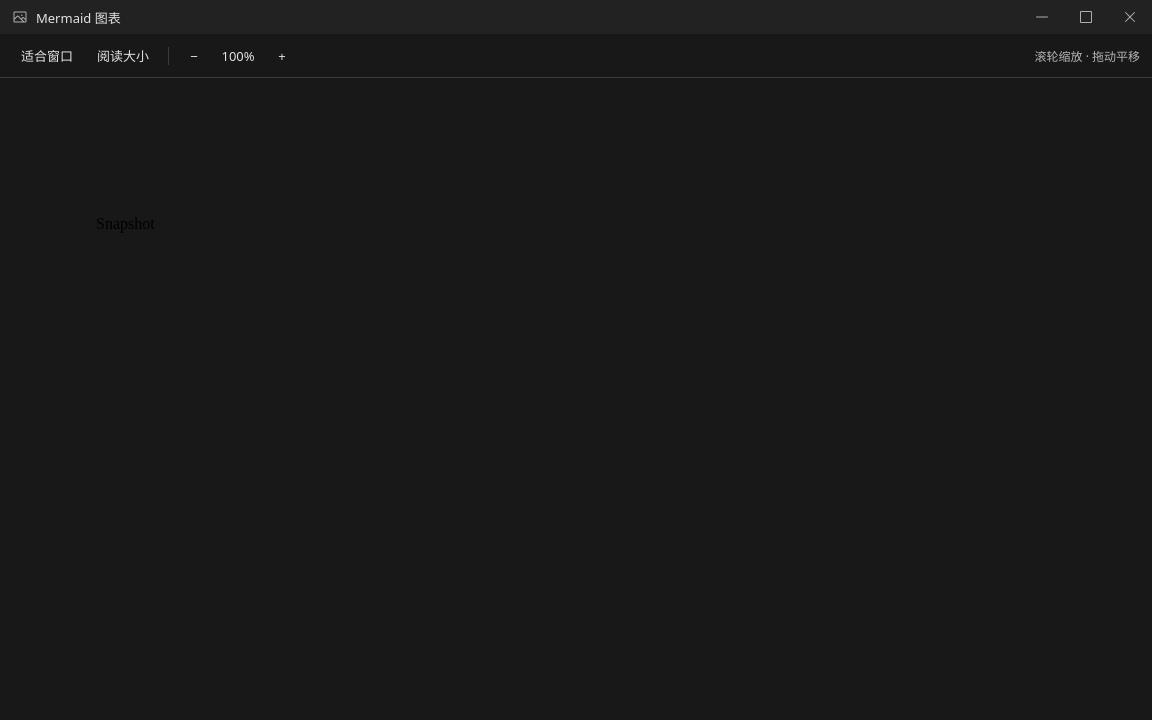
it: Mermaid readonly viewer › reports a failed save and allows a later successful or cancelled save without leaving an error
Expected: the button named "放大" is enabled, [267,40,297,70]
Right-click the element named "图表画布": x=576, y=399 [0,78,1151,719]
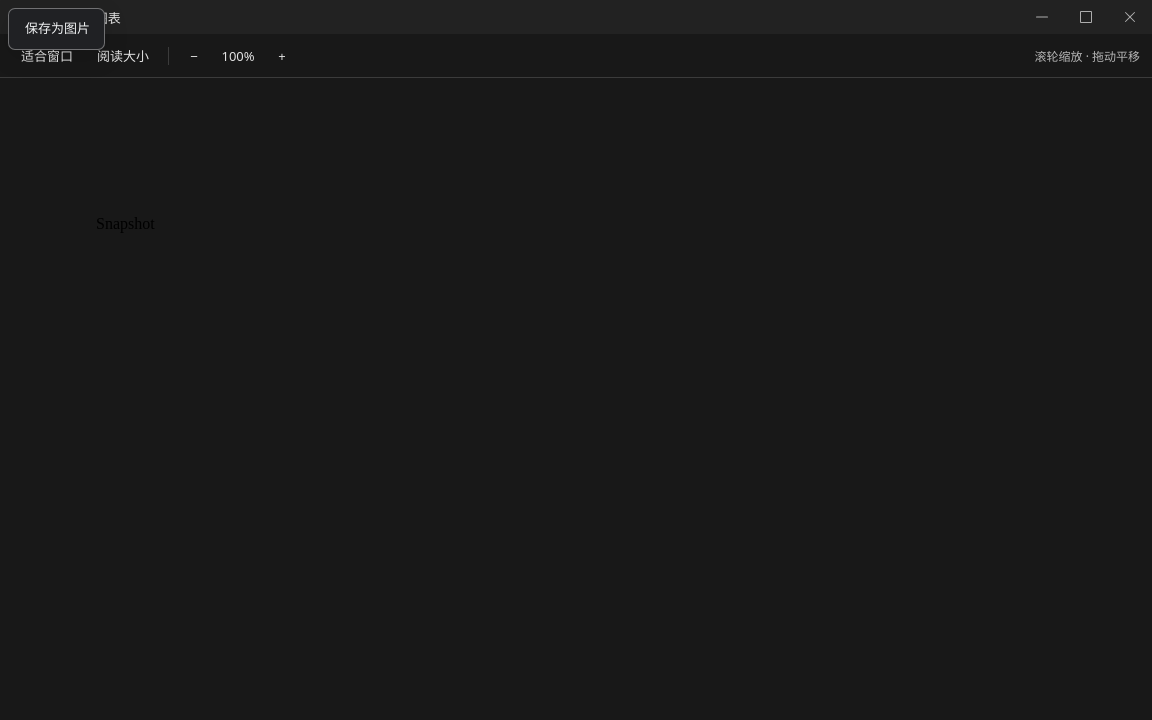
Click the menu item "保存为图片": x=56, y=29 [9,14,104,44]
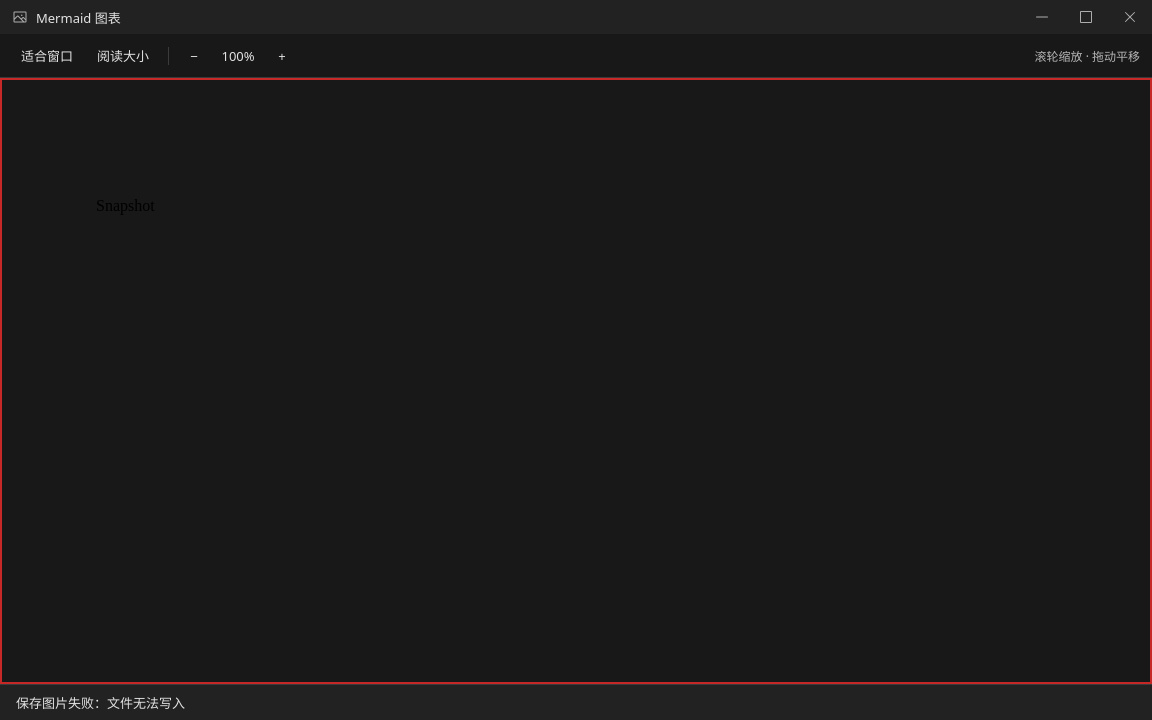
Now the message shows "文件无法写入", box [16,694,185,712]
Right-click the element named "图表画布": x=576, y=381 [0,78,1151,684]
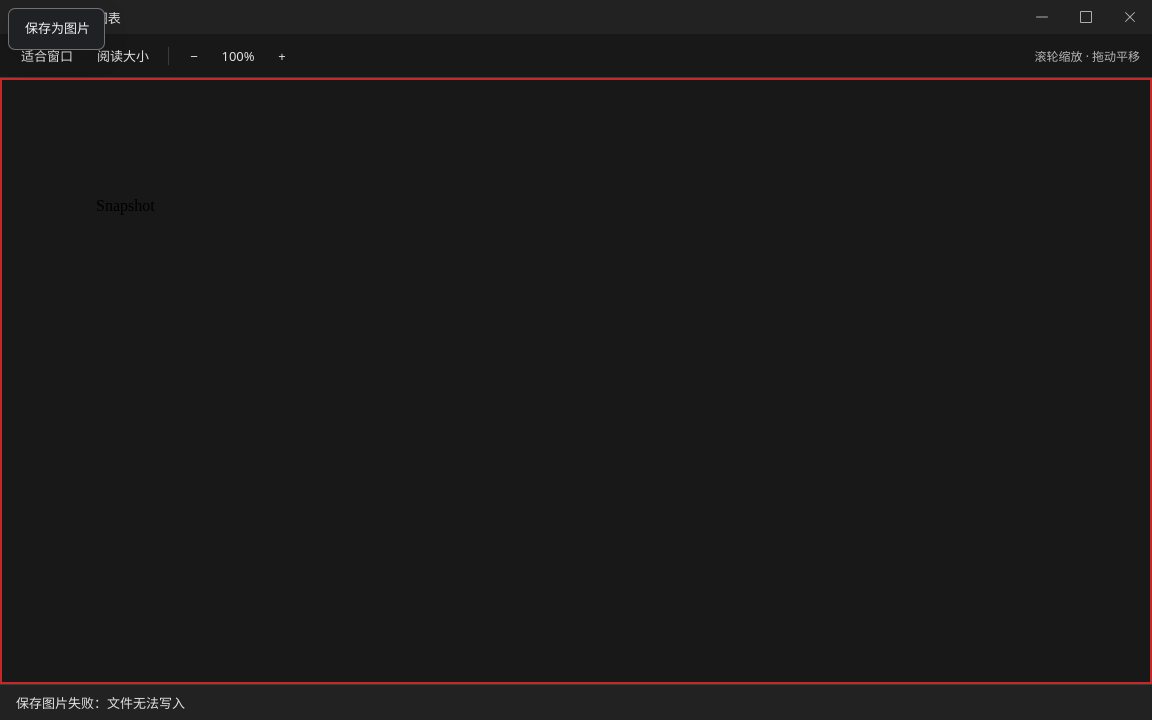
Click the menu item "保存为图片": x=56, y=29 [9,14,104,44]
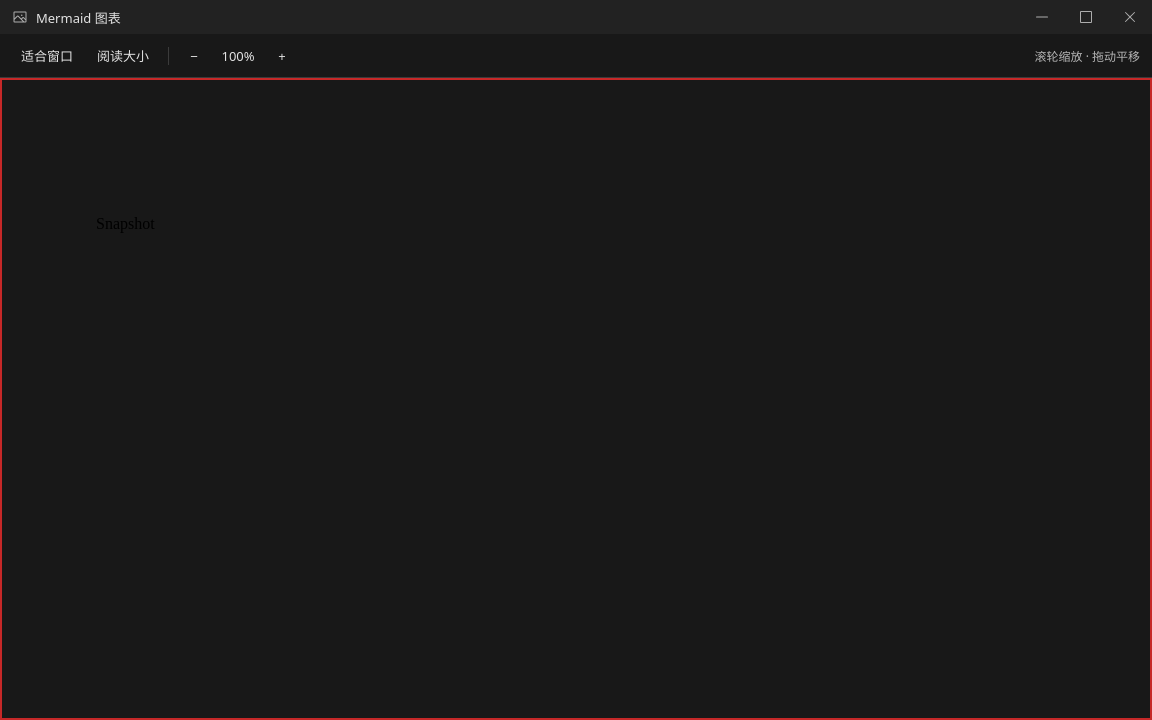
Now the message "保存图片失败：文件无法写入" is gone
